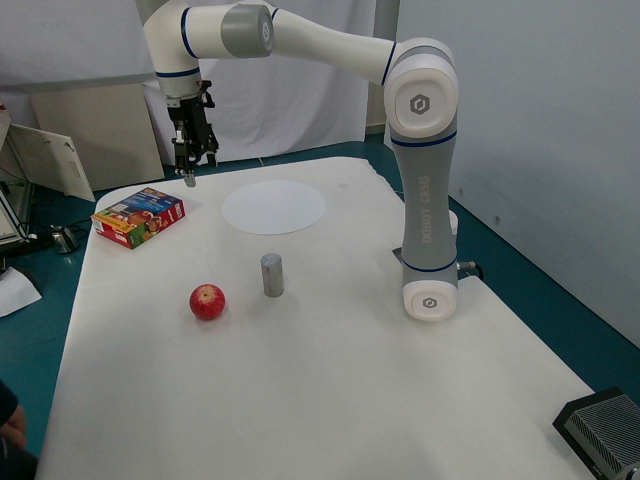apple: (184, 277, 231, 321)
metalROD: (255, 245, 289, 303)
